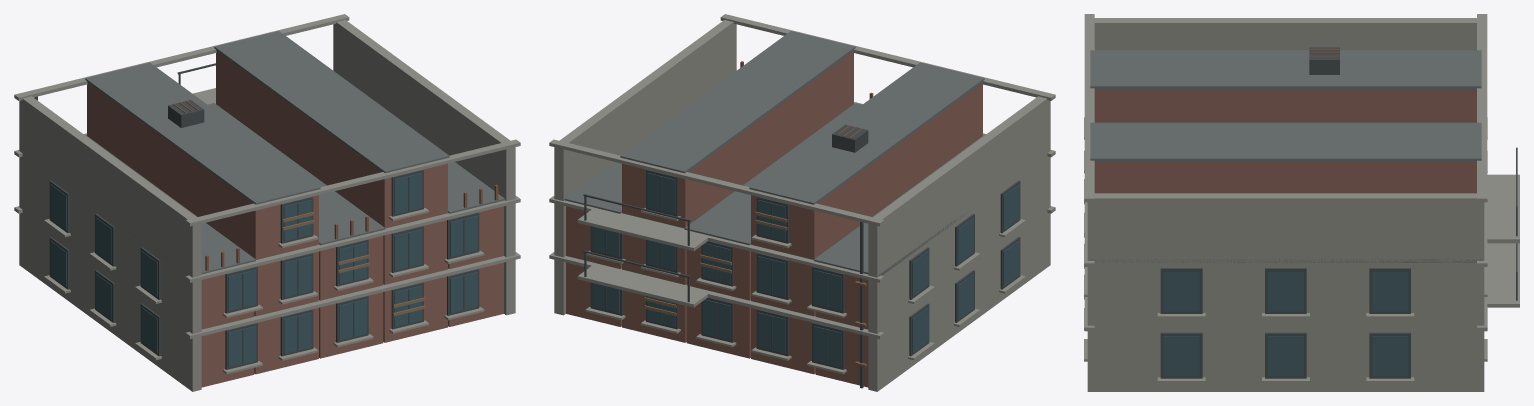
The model's file is Ville_Batiment_05.fbx.
3 views of the same model, side by side, from view 1: azimuth 30°, elevation 25°; view 2: azimuth 150°, elevation 25°; view 3: azimuth 270°, elevation 25° (orthographic). The views are drawn at different scales.
Parts seen in each view (by area): view 1: Ville_Batiment_05_concrete, Ville_Batiment_05_brick, Ville_Batiment_05_concrete_dark, Ville_Batiment_05_glass, Ville_Batiment_05_iron, Ville_Batiment_05_wood, Ville_Batiment_05_rust; view 2: Ville_Batiment_05_concrete, Ville_Batiment_05_brick, Ville_Batiment_05_concrete_dark, Ville_Batiment_05_glass, Ville_Batiment_05_iron, Ville_Batiment_05_wood; view 3: Ville_Batiment_05_concrete, Ville_Batiment_05_concrete_dark, Ville_Batiment_05_brick, Ville_Batiment_05_glass, Ville_Batiment_05_iron.
Boxes of the visible parts, bbox=[...] form: Ville_Batiment_05_concrete: bbox=[14, 14, 520, 391]; Ville_Batiment_05_brick: bbox=[87, 52, 503, 387]; Ville_Batiment_05_concrete_dark: bbox=[84, 31, 505, 275]; Ville_Batiment_05_glass: bbox=[50, 173, 477, 367]; Ville_Batiment_05_iron: bbox=[34, 63, 479, 369]; Ville_Batiment_05_wood: bbox=[282, 211, 425, 316]; Ville_Batiment_05_rust: bbox=[173, 100, 498, 270]; Ville_Batiment_05_concrete: bbox=[549, 14, 1055, 391]; Ville_Batiment_05_brick: bbox=[566, 52, 982, 387]; Ville_Batiment_05_concrete_dark: bbox=[564, 31, 985, 276]; Ville_Batiment_05_glass: bbox=[592, 173, 1019, 367]; Ville_Batiment_05_iron: bbox=[583, 124, 1020, 388]; Ville_Batiment_05_wood: bbox=[644, 211, 787, 316]; Ville_Batiment_05_concrete: bbox=[1084, 14, 1519, 391]; Ville_Batiment_05_concrete_dark: bbox=[1090, 50, 1481, 262]; Ville_Batiment_05_brick: bbox=[1094, 90, 1476, 193]; Ville_Batiment_05_glass: bbox=[1163, 272, 1408, 376]; Ville_Batiment_05_iron: bbox=[1160, 47, 1517, 378].
Bounding box in the file's own units: 43.56 × 23.1 × 42.85.
